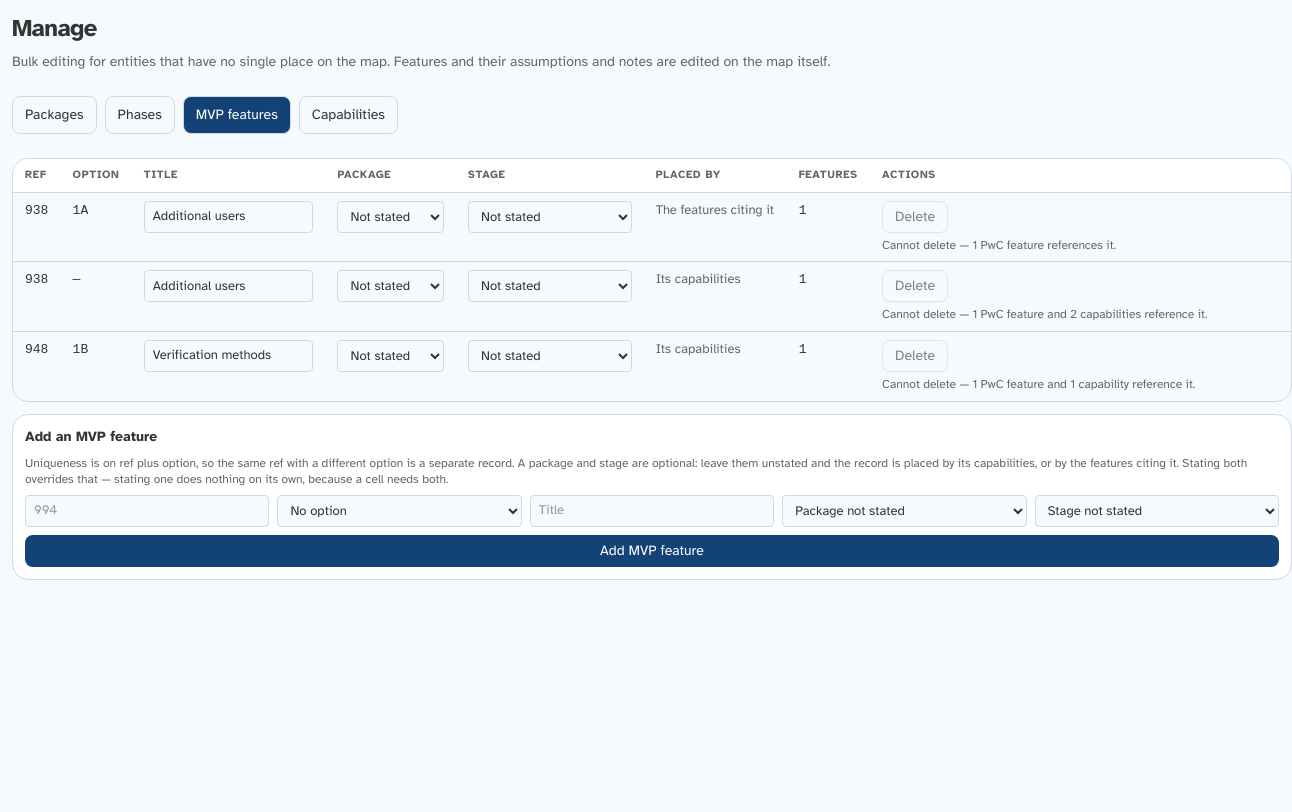
Test: Manage — adding an MSD feature › asks for the ref rather than sending a request that cannot succeed
Expected: the table named "MVP features" is shown, [13,159,1291,401]
Type "No ref given" into the field named "New MVP title" at [652, 511], box [530,495,774,527]
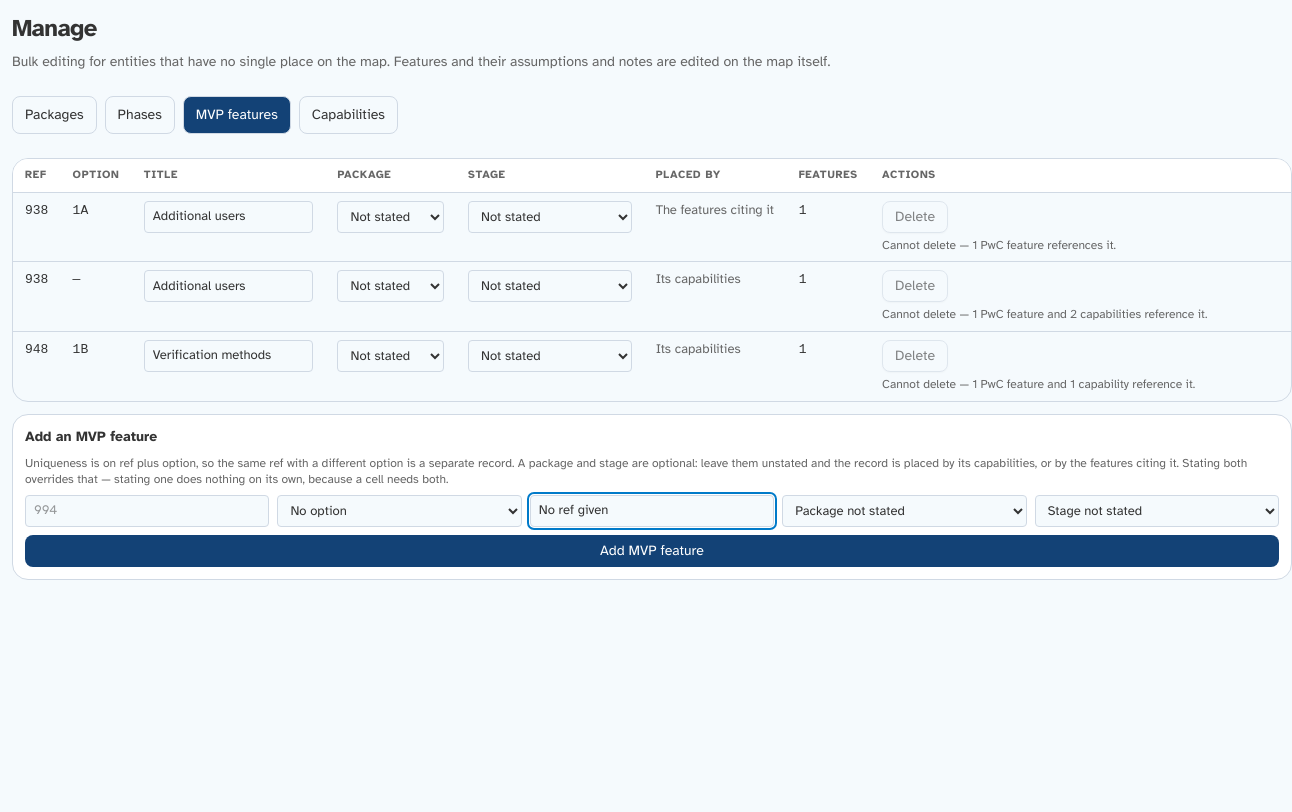
Click the button "Add MVP feature" at [652, 551], box [25,535,1279,567]
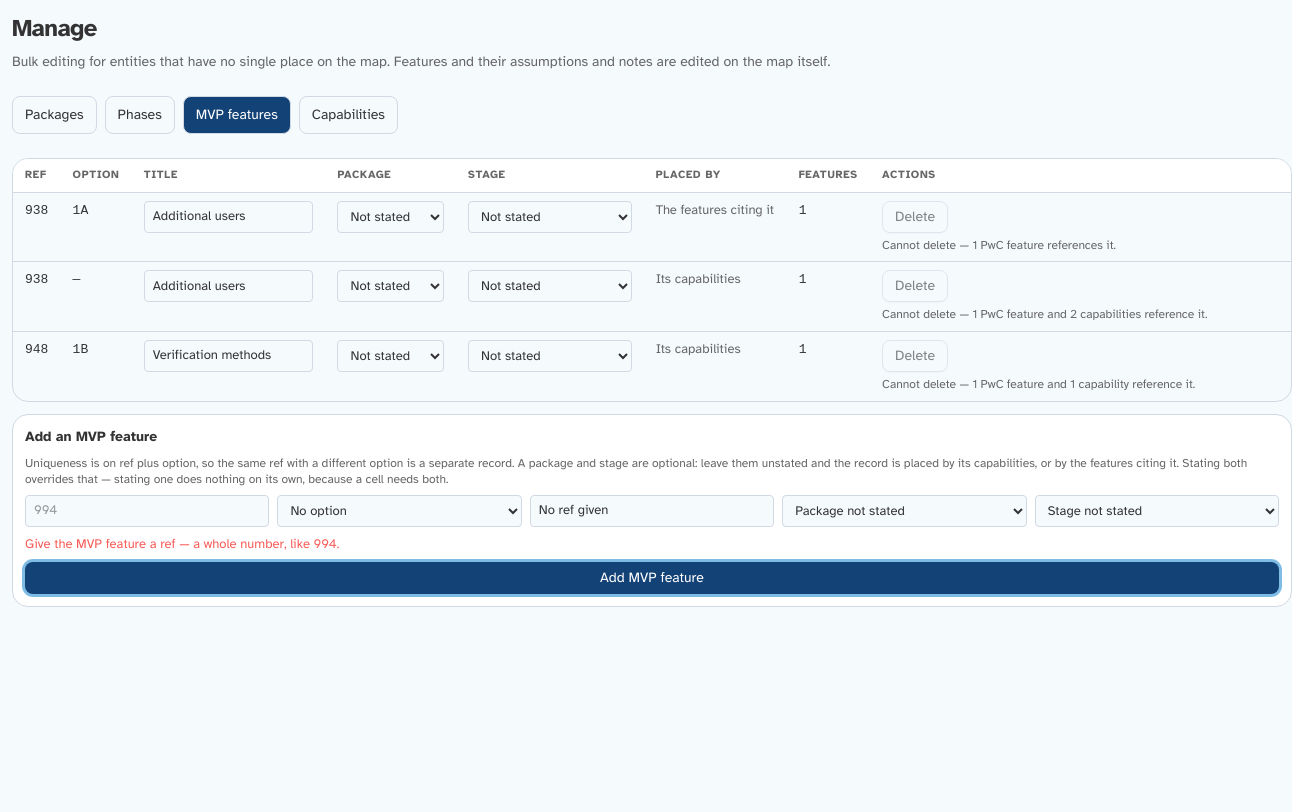
Result: the message shows "Give the MVP feature a ref" at [25,536,340,552]
